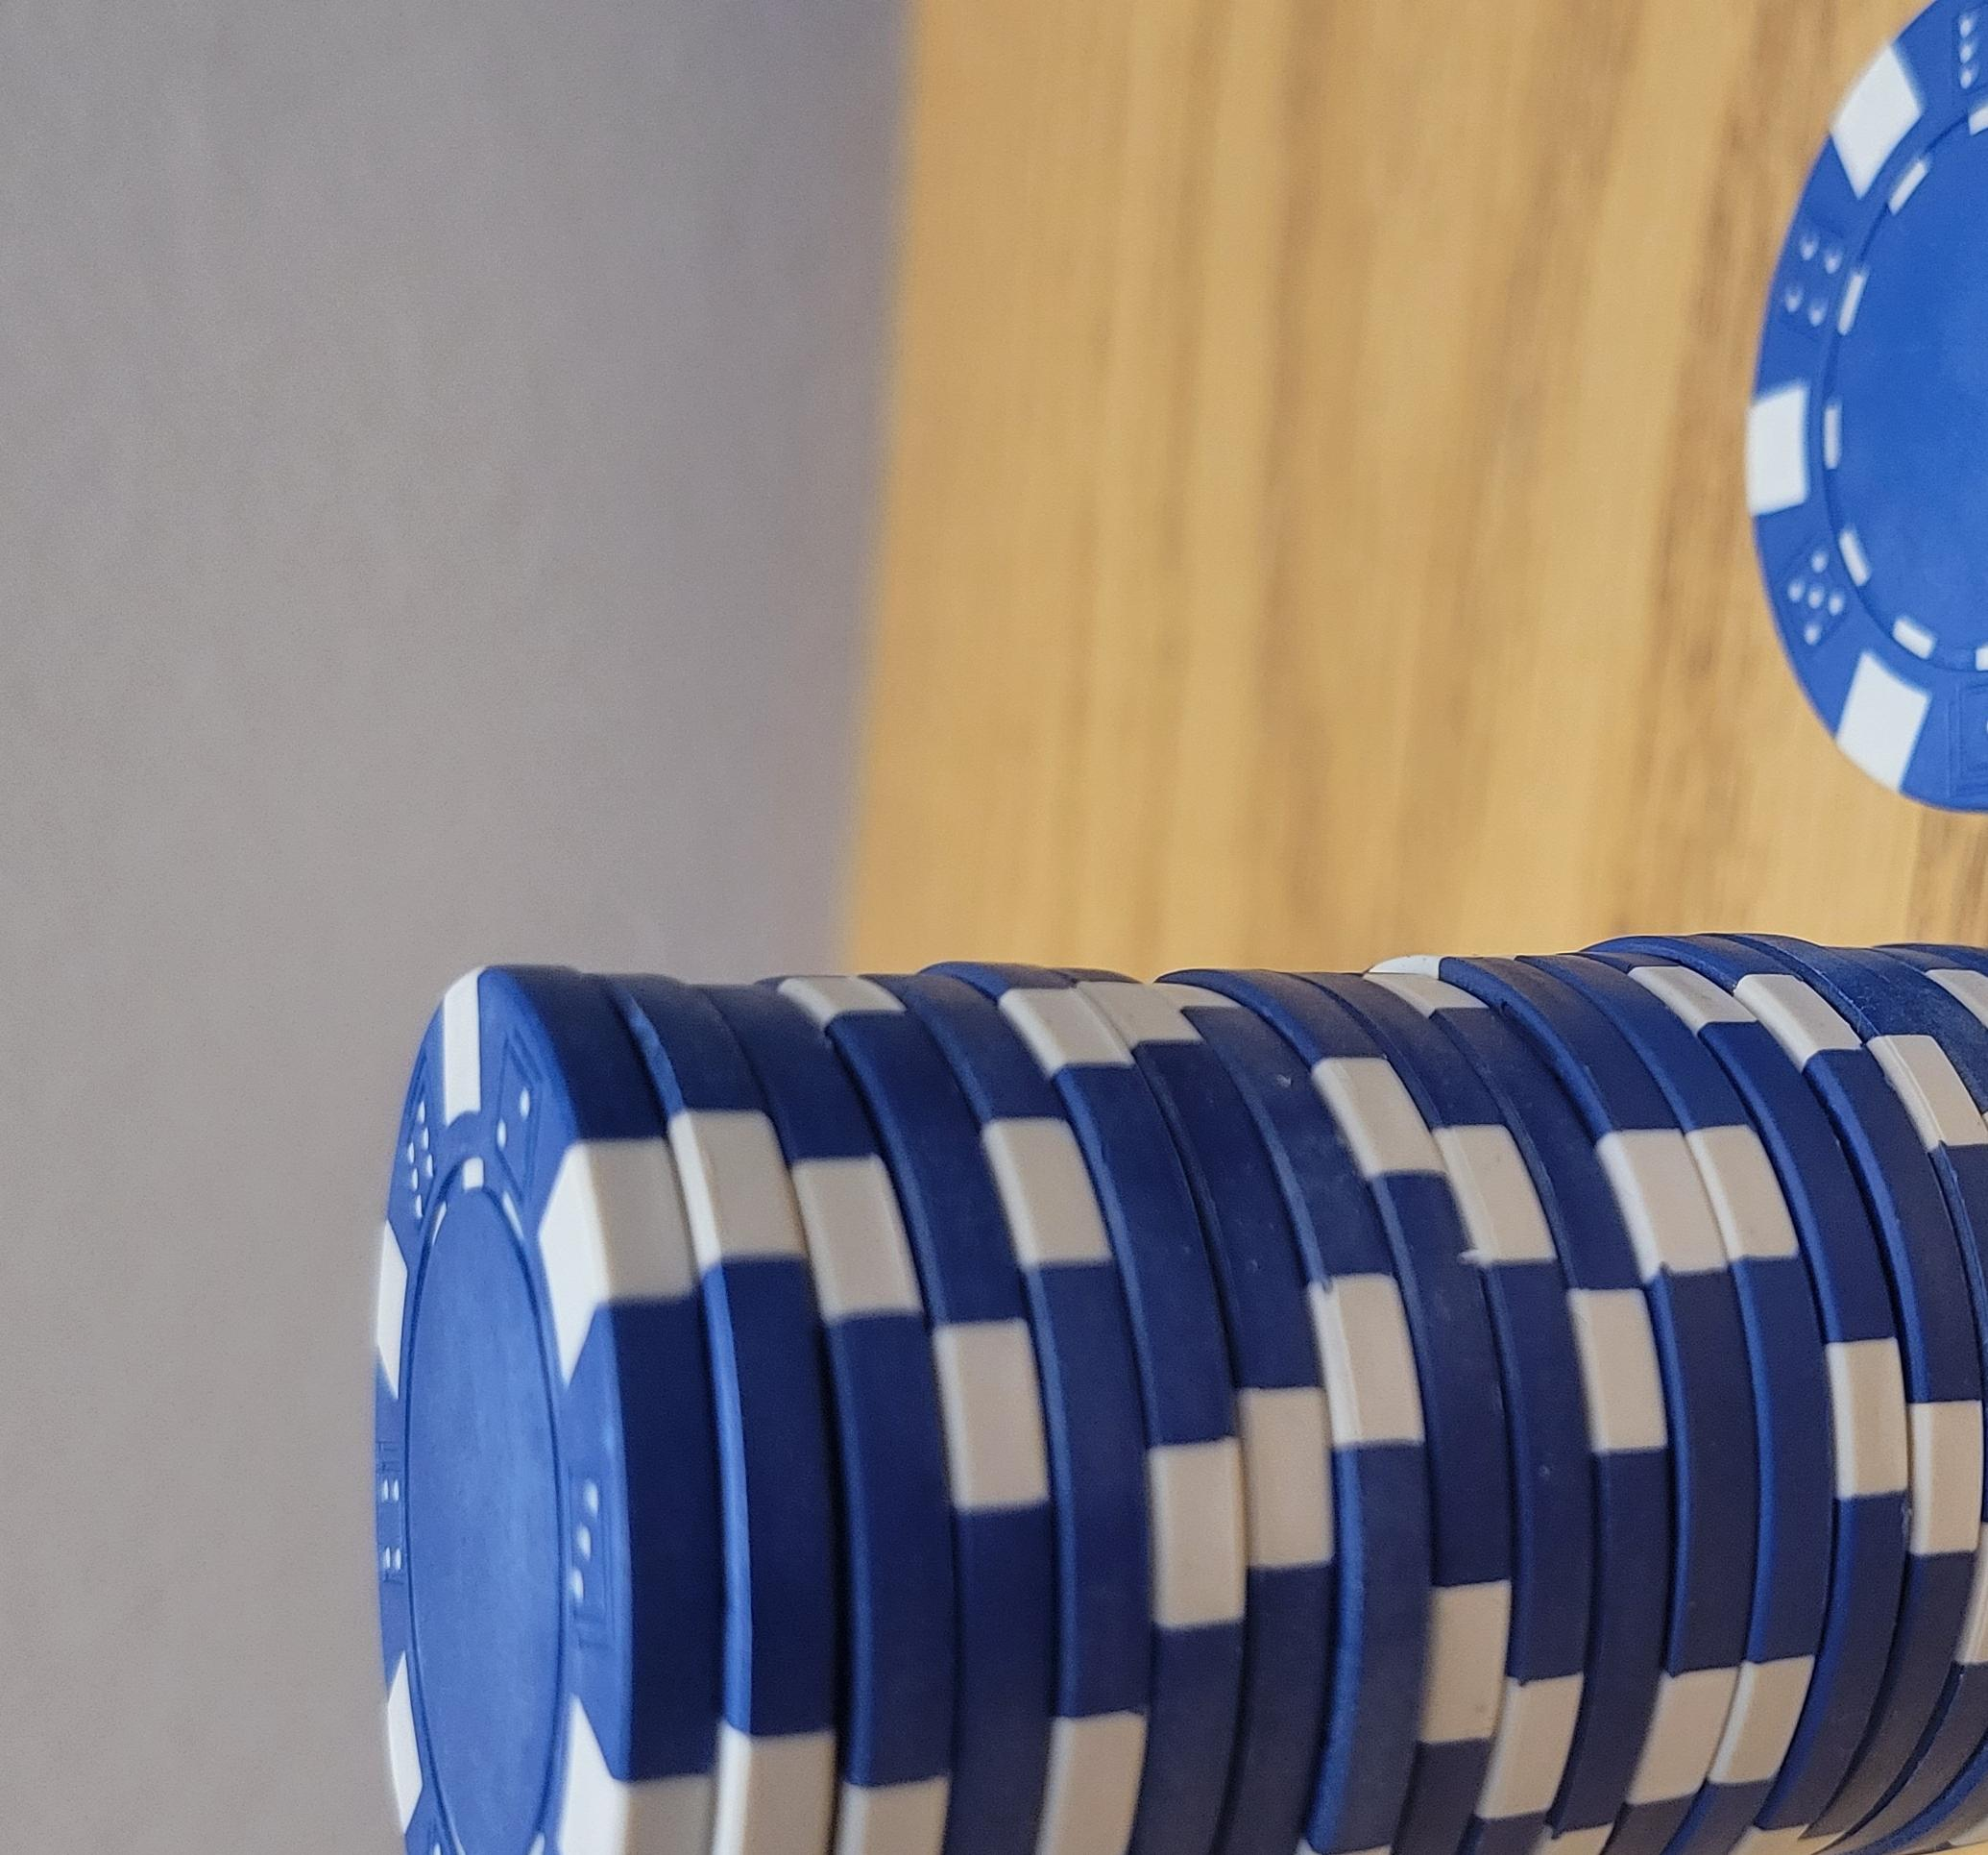Chip: (2, 145, 1415, 1855)
